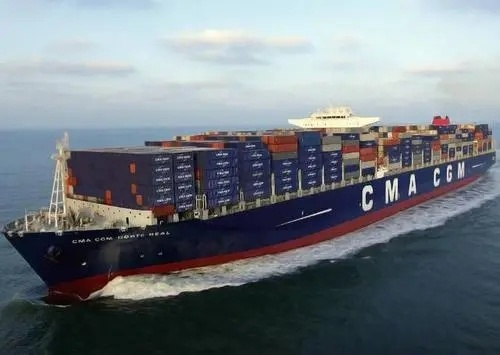Cargoship: (6, 100, 500, 303)
